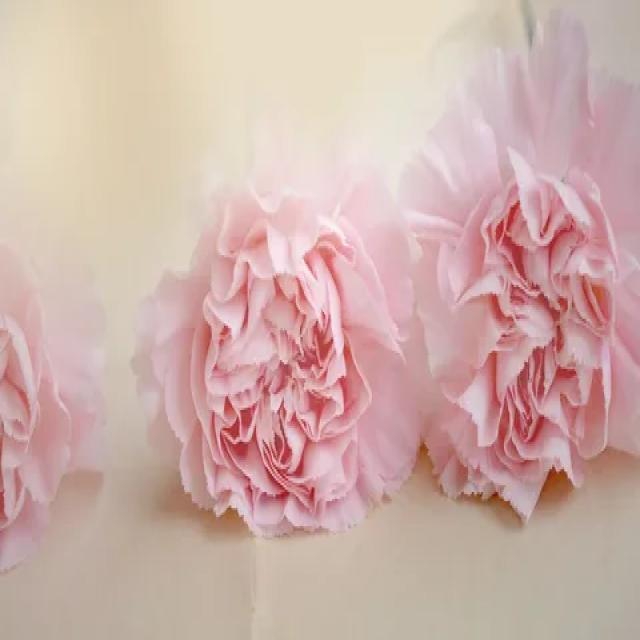carnation: (120, 139, 432, 544)
